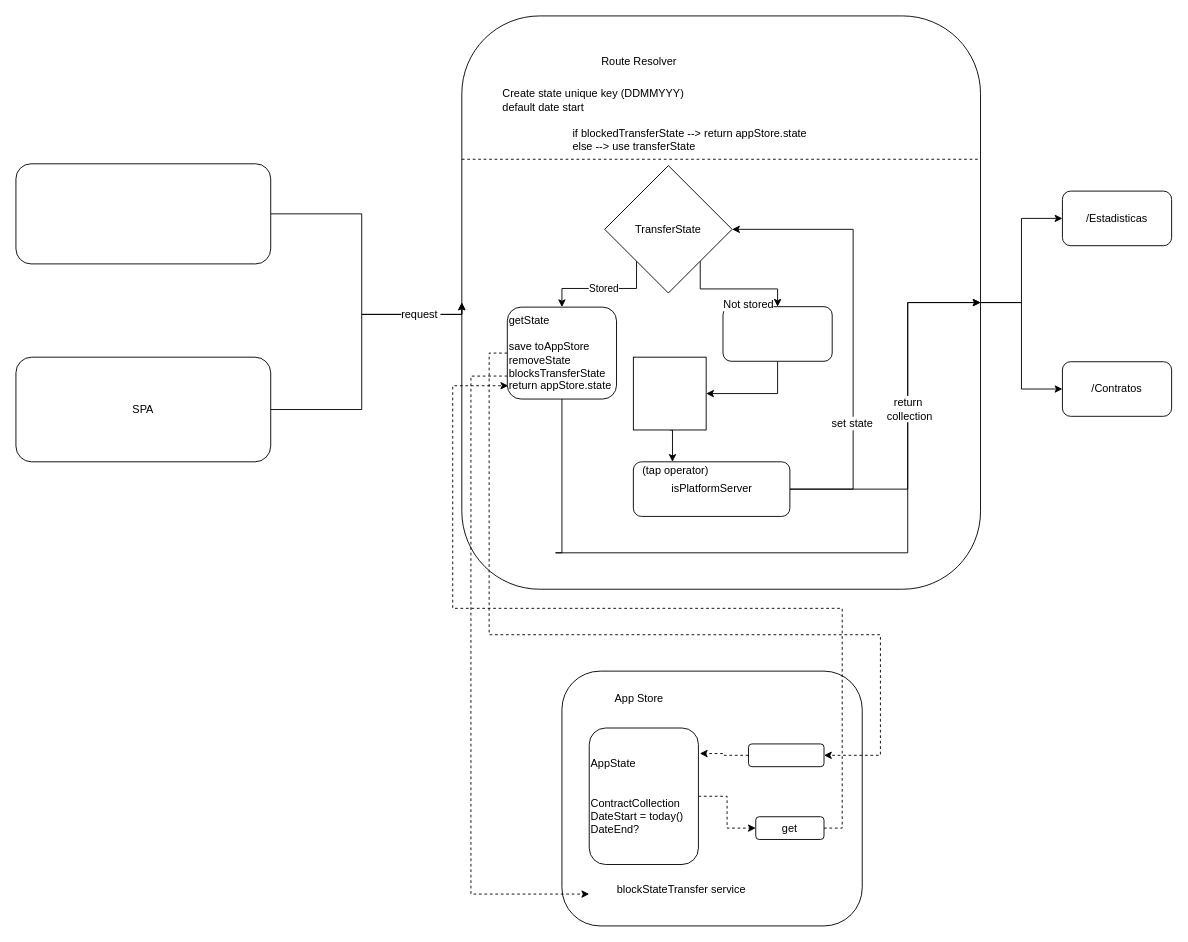
Image size: 1188x942. Some labels were removed from this diagram. The shapes that lost their labels are listed below. From the top down, each one's centre as x and y in pixels, then its label:
point 143,213: Server
point 777,333: Api Service
point 669,393: Fetch data from server
point 786,755: set
